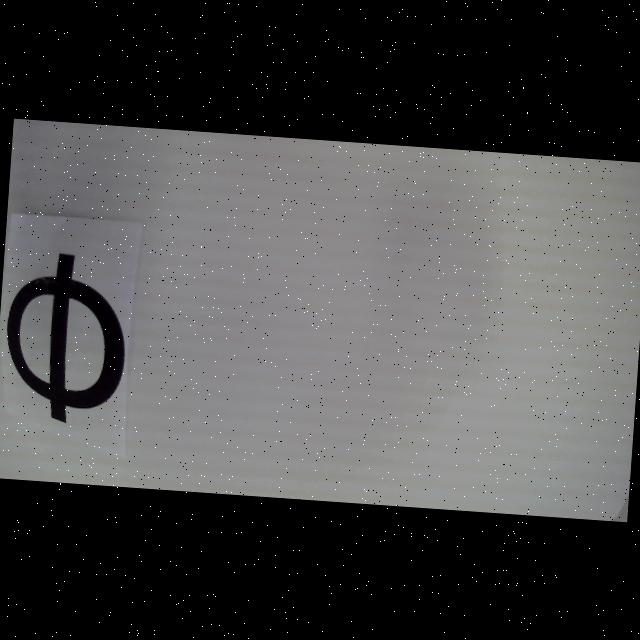PHI: (0, 248, 132, 427)
